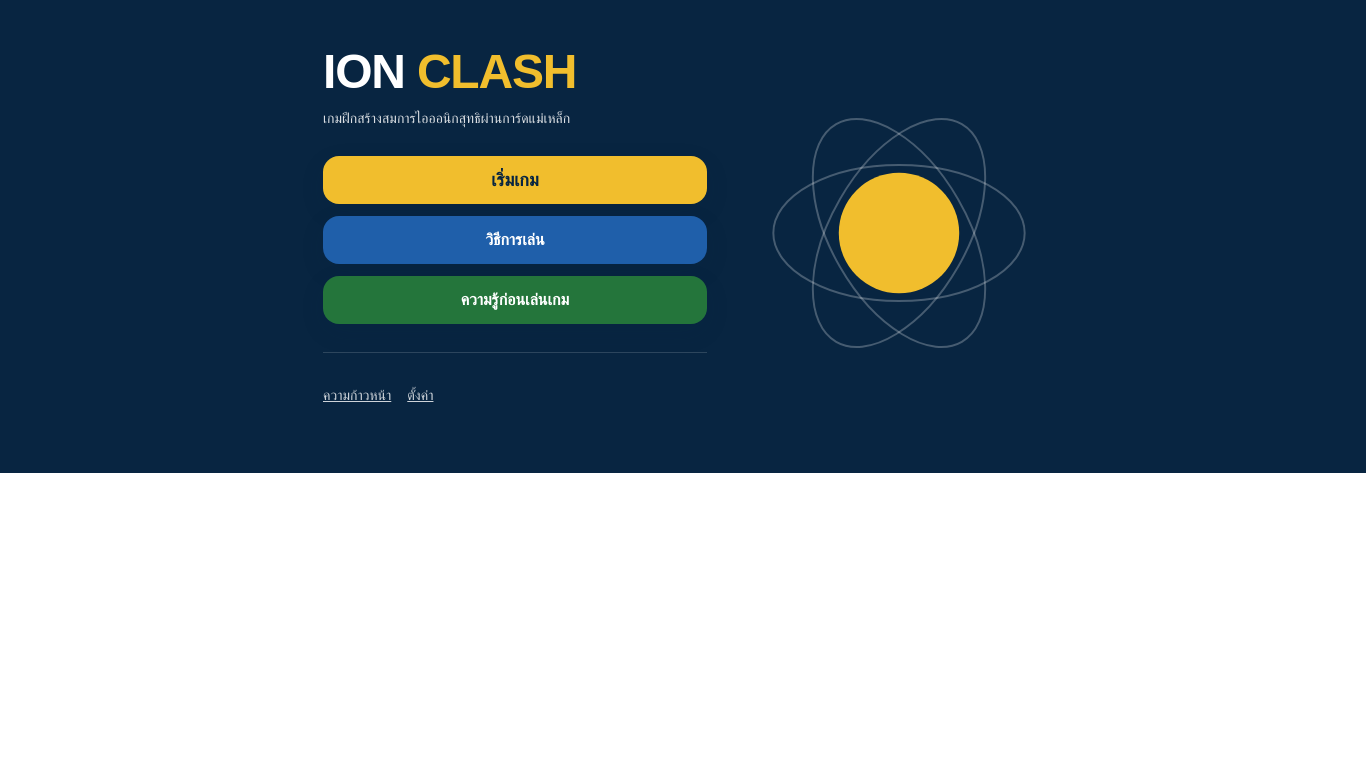
Test: Home Page (/) › แสดงโลโก้และปุ่มเริ่มเกมสำหรับผู้เล่นใหม่ เมื่อกดเริ่มเกมจะเปิด Dialog กรอกชื่อ
The image size is (1366, 768).
Expected: the heading "ION CLASH" is shown, [323,45,576,98]
Expected: the text "เกมฝึกสร้างสมการไอออนิกสุทธิผ่านการ์ดแม่เหล็ก" is shown, [323,110,570,126]
Step 1. Click the button "เริ่มเกม" → (515, 180), box [323,156,707,204]
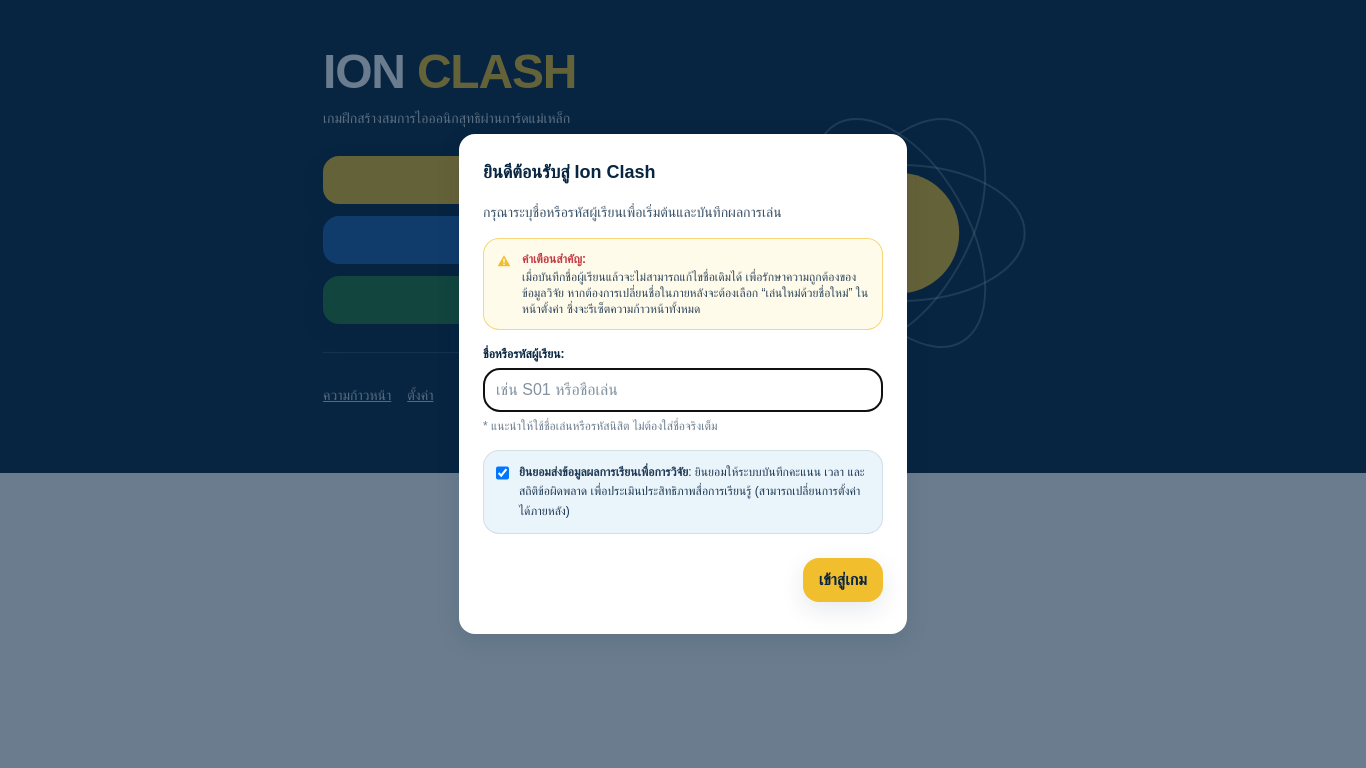
Expected: the heading "ยินดีต้อนรับสู่ Ion Clash" is shown, [483,162,656,182]
Expected: the text "* แนะนำให้ใช้ชื่อเล่นหรือรหัสนิสิต ไม่ต้องใส่ชื่อจริงเต็ม" is shown, [483,419,718,433]
Expected: the text "ยินยอมส่งข้อมูลผลการเรียนเพื่อการวิจัย" is shown, [519,465,688,479]
